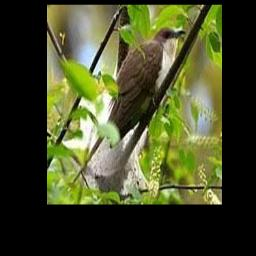Cuckoo: (74, 27, 186, 182)
